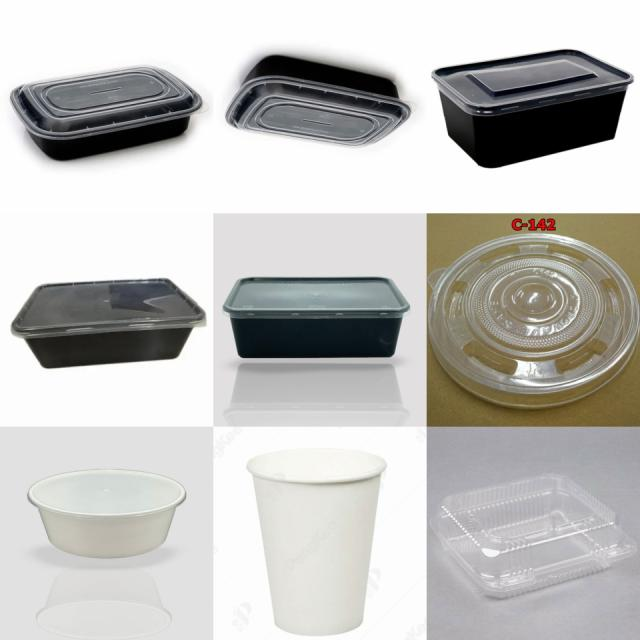Single-Use-Plastic: (429, 234, 639, 409), (430, 474, 638, 598), (248, 449, 386, 634), (432, 50, 634, 168), (10, 66, 202, 159), (11, 279, 206, 368), (226, 55, 410, 145), (222, 278, 410, 358), (28, 470, 186, 558)
